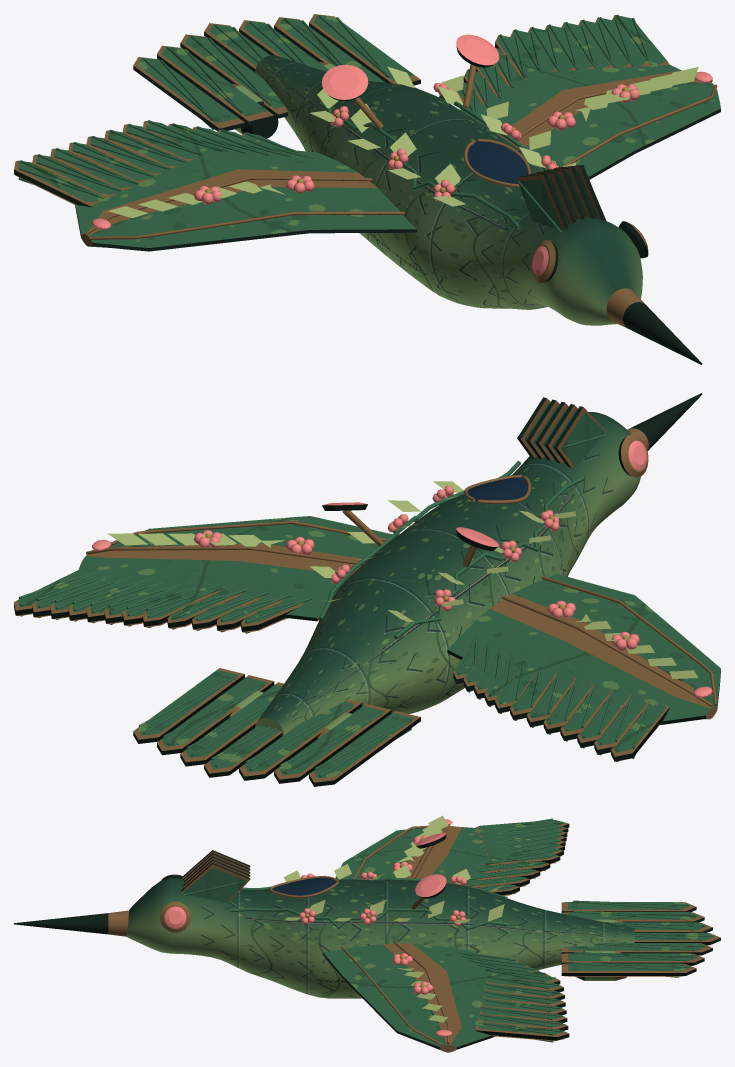
3 views of the same model, one above another, from view 1: azimuth 30°, elevation 25°; view 2: azimuth 150°, elevation 25°; view 3: azimuth 270°, elevation 25° (orthographic). The views are drawn at different scales.
Visible parts, largest first — view 1: kingfisher_hull; view 2: kingfisher_hull; view 3: kingfisher_hull.
Boxes of the visible parts, bbox=[...] form: kingfisher_hull: bbox=[14, 14, 720, 364]; kingfisher_hull: bbox=[14, 393, 720, 786]; kingfisher_hull: bbox=[14, 815, 720, 1052].
Size of the model in its own units: 12.5 by 3.63 by 17.
1 material, 1 textured.
